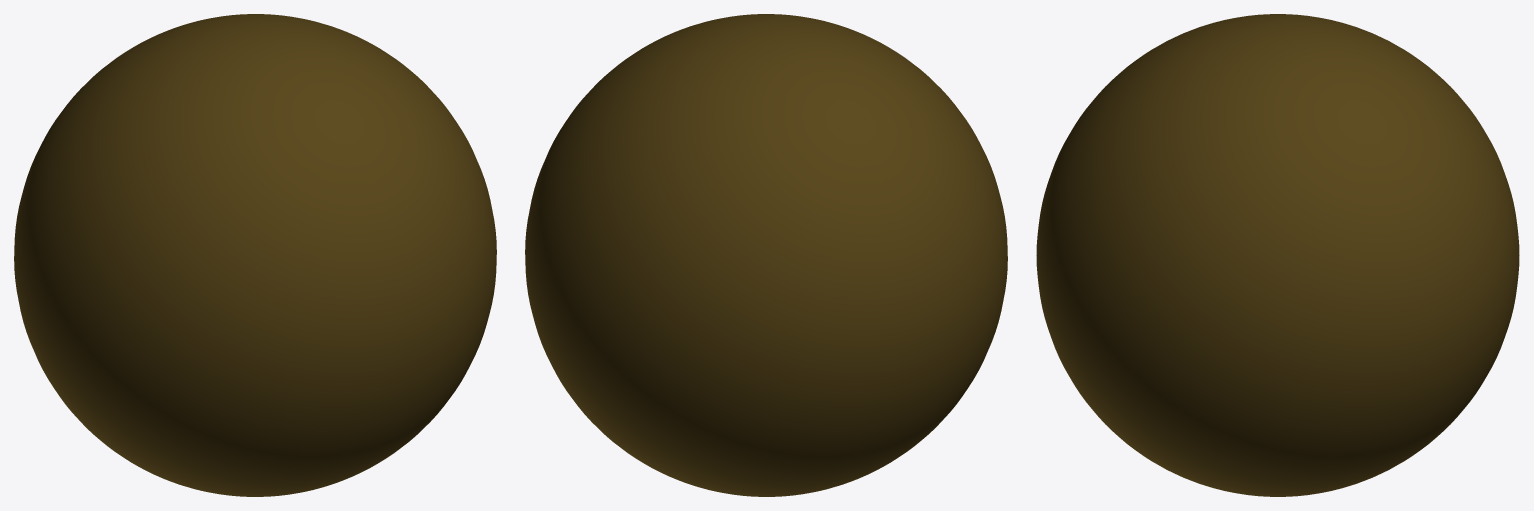
The picture shows the model from 3 angles, left to right: view 1: azimuth 30°, elevation 25°; view 2: azimuth 150°, elevation 25°; view 3: azimuth 270°, elevation 25°; orthographic projection.
Parts seen in each view (by area): view 1: Sphere.001; view 2: Sphere.001; view 3: Sphere.001.
Part boxes in pixels (<box>): Sphere.001: <box>14,14,496,496</box>; Sphere.001: <box>525,14,1007,496</box>; Sphere.001: <box>1036,14,1519,496</box>.
Bounding box in the file's own units: 344 × 344 × 344.
